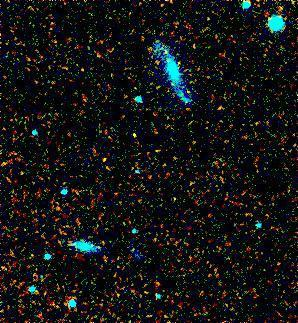star: (86, 143, 116, 173)
